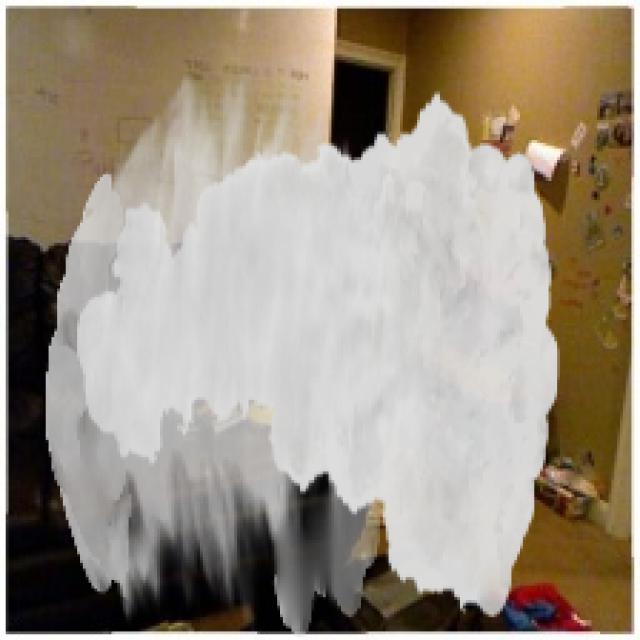smoke: (46, 69, 560, 637)
